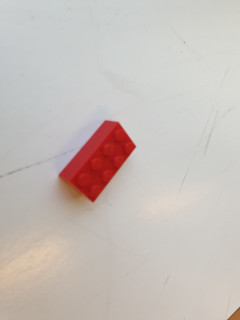2x4 red: (58, 119, 137, 204)
